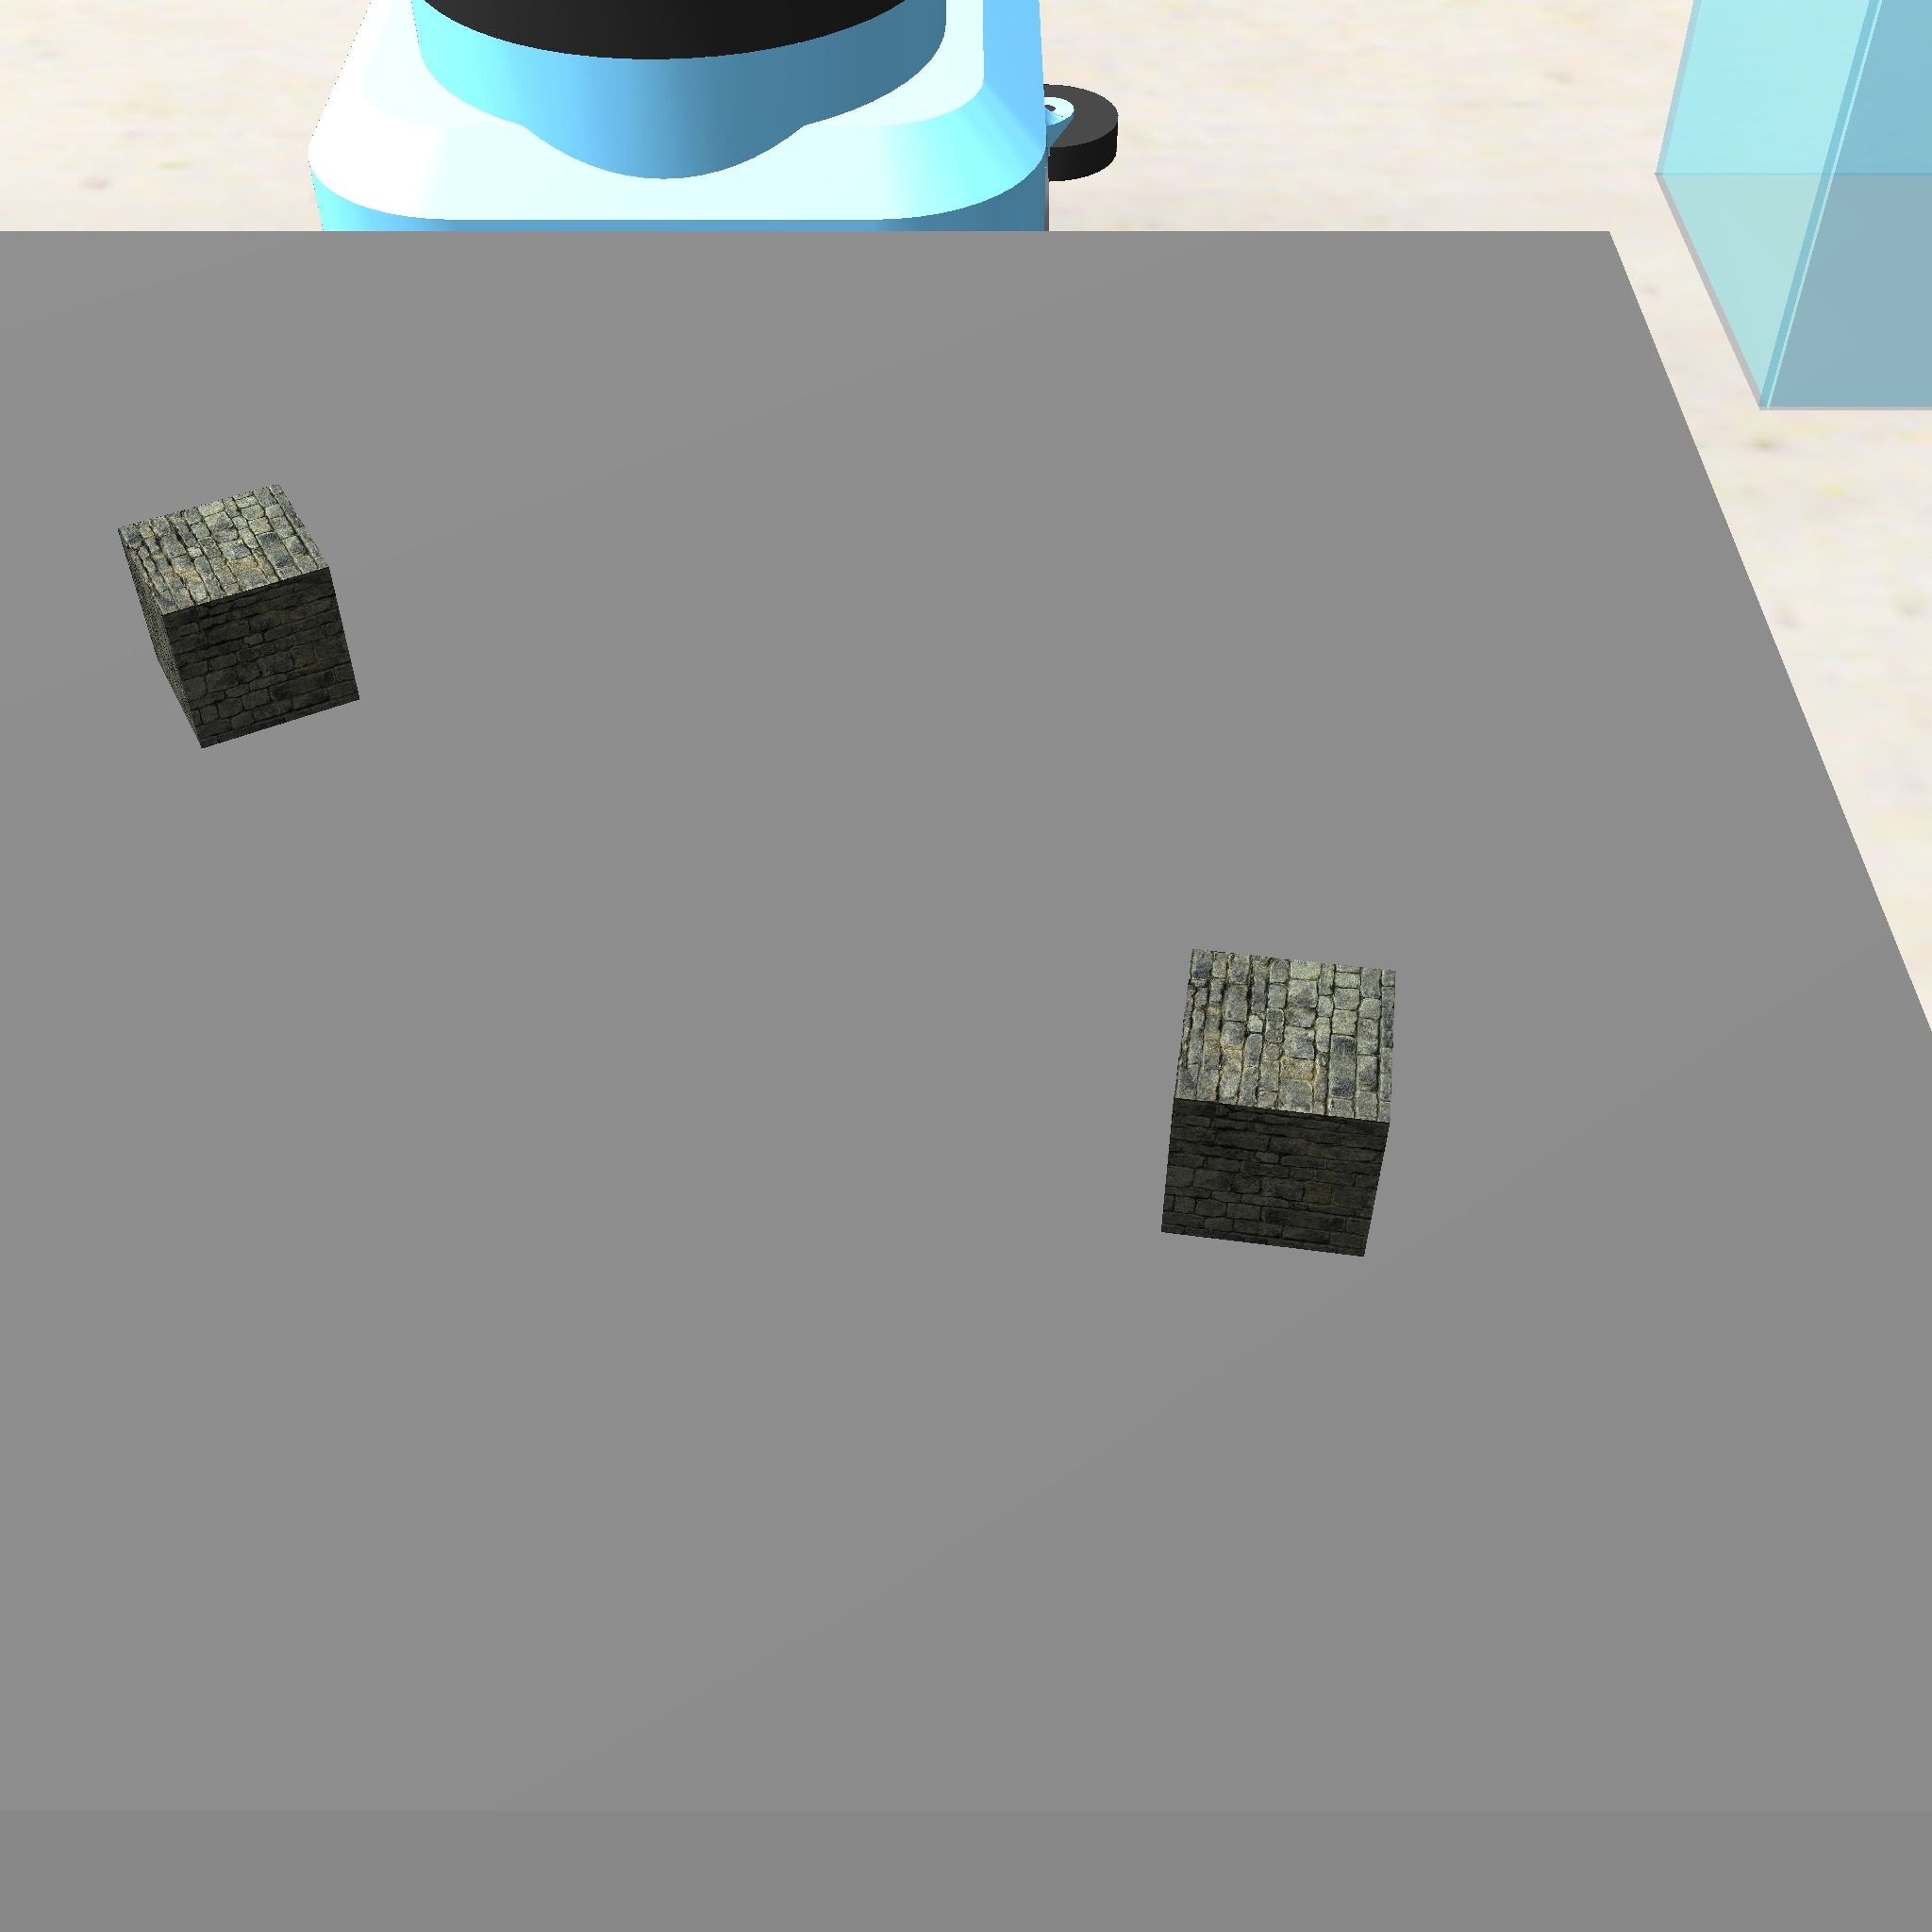cube: (1154, 934, 1405, 1269), (110, 474, 373, 757)
